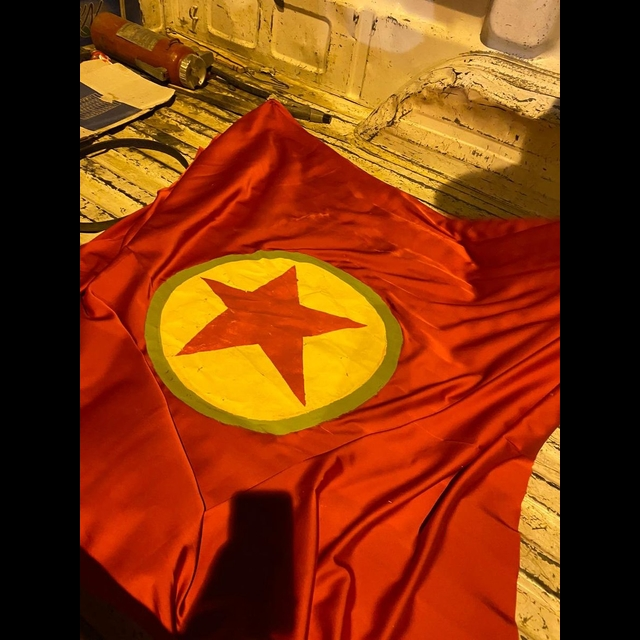PKK: (140, 239, 416, 446)
